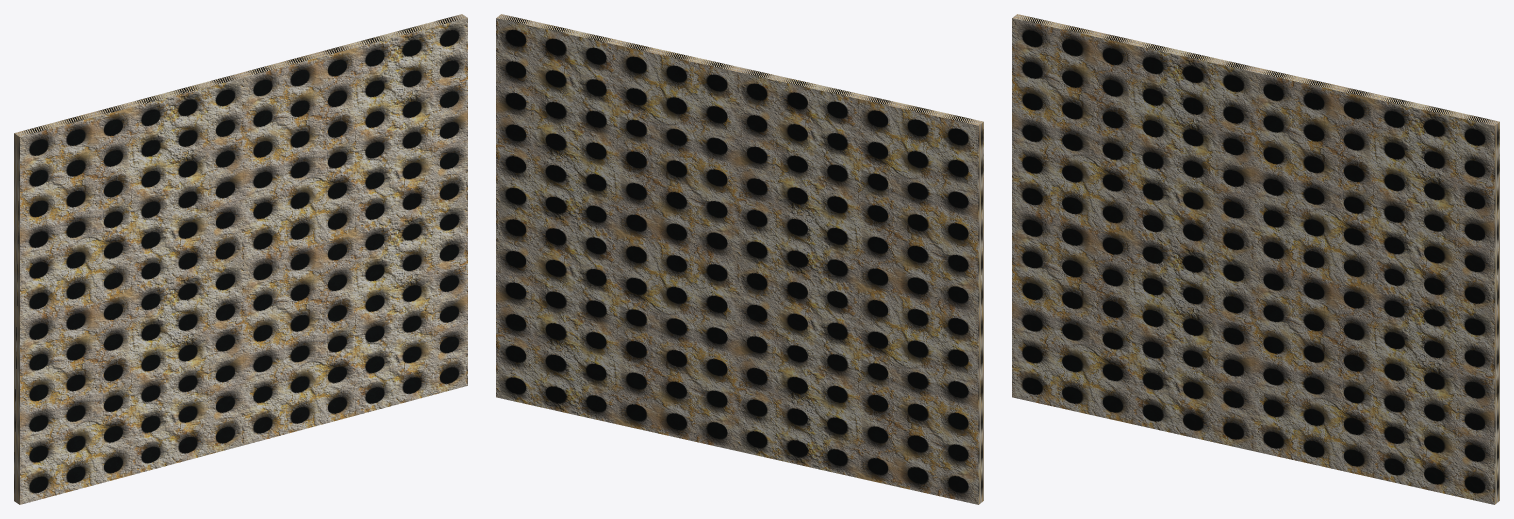
The model's file is ArenaDenialGate.fbx.
3 renders of one model, left to right at view 1: azimuth 30°, elevation 25°; view 2: azimuth 150°, elevation 25°; view 3: azimuth 330°, elevation 25°, orthographic. The views are drawn at different scales.
Parts seen in each view (by area): view 1: ArenaGate; view 2: ArenaGate; view 3: ArenaGate.
Part boxes in pixels (<box>): ArenaGate: <box>14,14,467,504</box>; ArenaGate: <box>496,14,983,504</box>; ArenaGate: <box>1012,14,1499,504</box>.
Bounding box in the file's own units: 1628 × 1248 × 95.64.
Materials: 1 (1 with a texture image).
